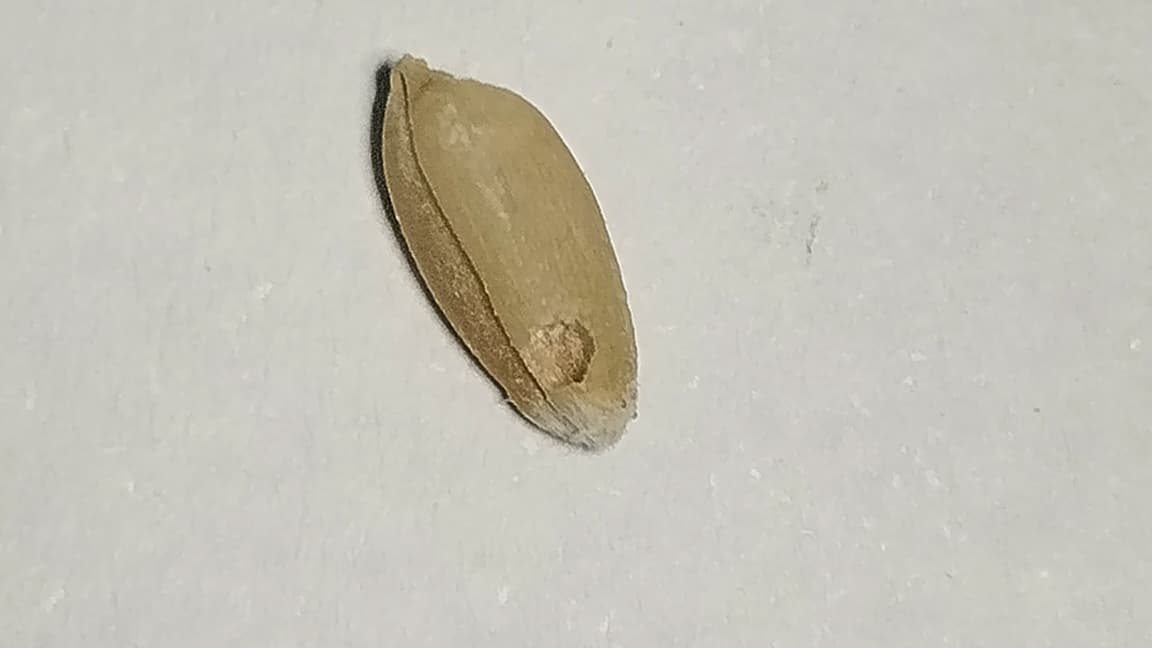damage: (383, 56, 636, 448)
insectdamage: (509, 309, 625, 408)
